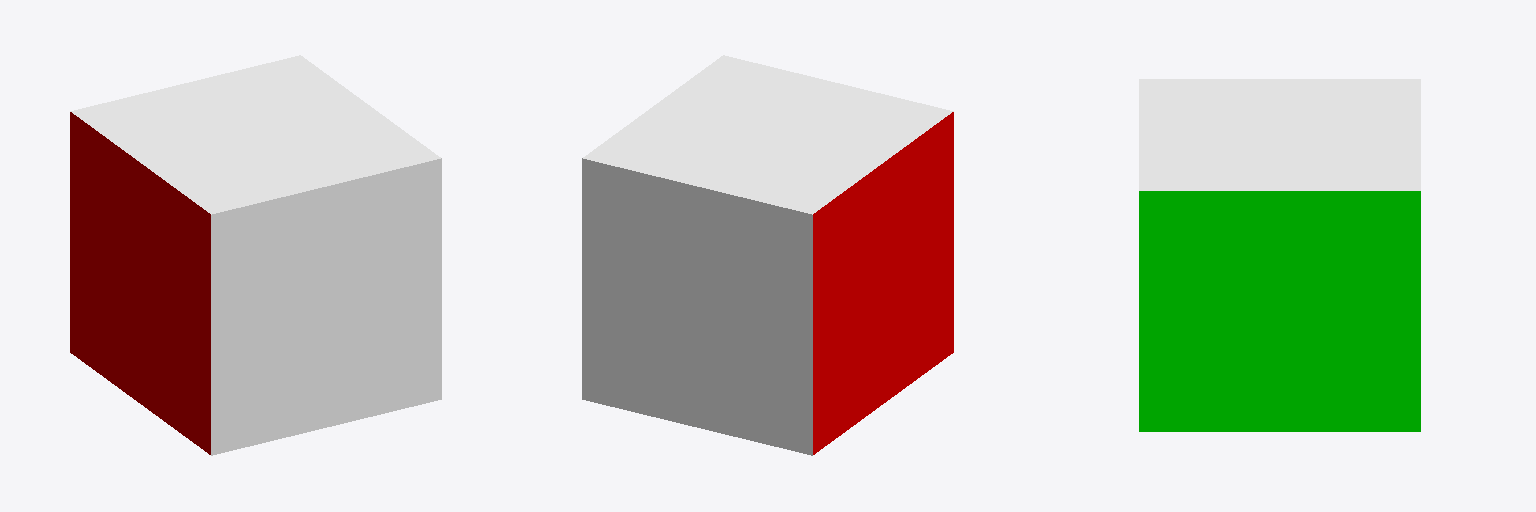
Rendered from cornellbuda.obj.
3 renders of one model, left to right at view 1: azimuth 30°, elevation 25°; view 2: azimuth 150°, elevation 25°; view 3: azimuth 270°, elevation 25°, orthographic.
Visible parts, largest first — view 1: cornellBox3wall; view 2: cornellBox3wall; view 3: cornellBox3wall.
Boxes of the visible parts, box(x1,y1,x2,y2) form: cornellBox3wall: box(70, 55, 441, 455); cornellBox3wall: box(582, 55, 953, 455); cornellBox3wall: box(1139, 79, 1420, 431).
Bounding box in the file's own units: 8.62 × 8.66 × 9.14.